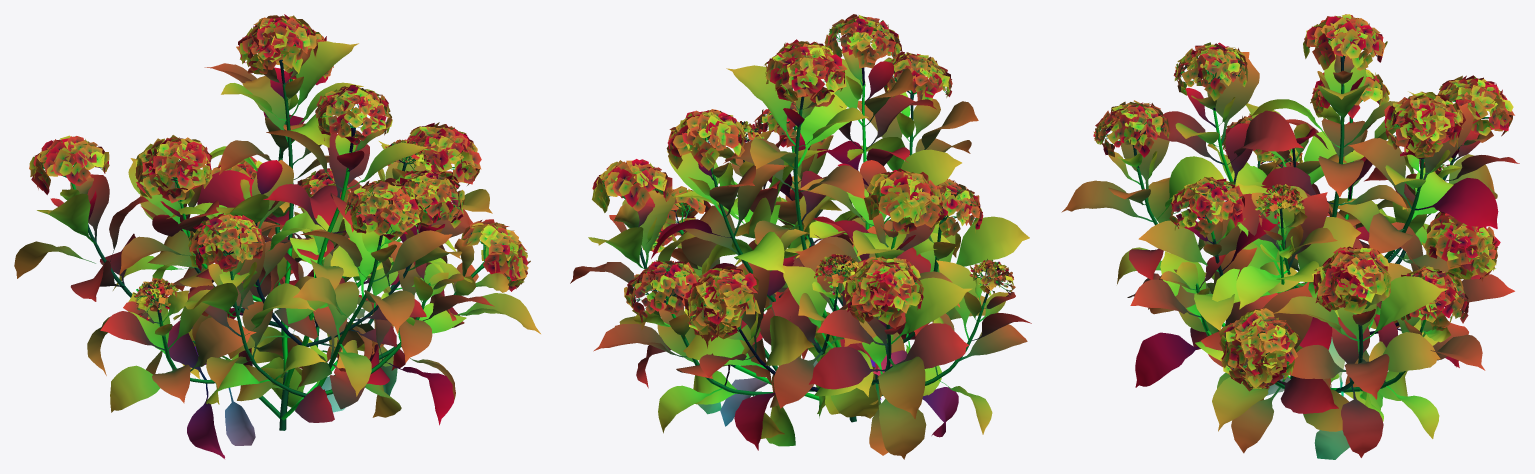
Rendered from Bigleaf_Hydrangea_vgztealha_Mid_vgztealha_VarC_LOD0.fbx.
3 renders of one model, left to right at view 1: azimuth 30°, elevation 25°; view 2: azimuth 150°, elevation 25°; view 3: azimuth 270°, elevation 25°, orthographic.
Parts seen in each view (by area): view 1: _2yj1_VarC_LOD1; view 2: _2yj1_VarC_LOD1; view 3: _2yj1_VarC_LOD1.
Part boxes in pixels (<box>): _2yj1_VarC_LOD1: <box>14,14,540,458</box>; _2yj1_VarC_LOD1: <box>570,14,1031,459</box>; _2yj1_VarC_LOD1: <box>1061,14,1519,459</box>.
Bounding box in the file's own units: 153 × 138 × 146.
